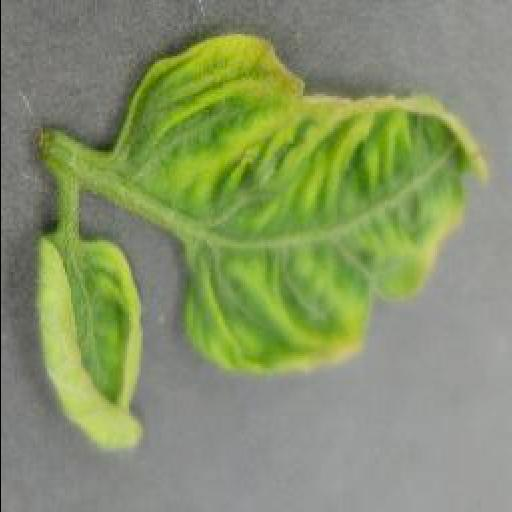disease_tomato: (113, 33, 491, 375), (34, 235, 142, 457)
